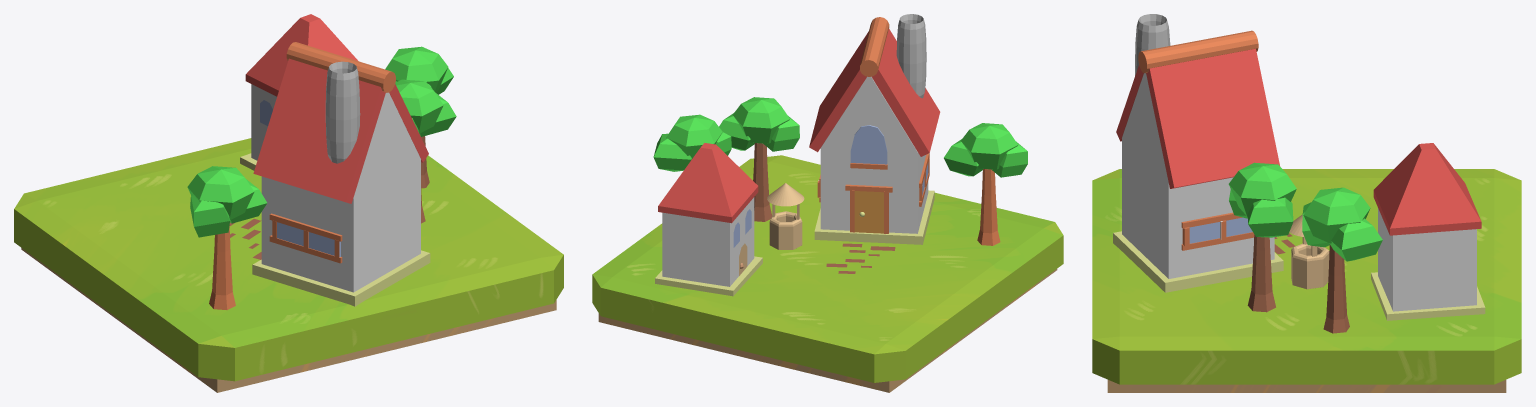
The model's file is schoene_stadt.fbx.
3 views of the same model, side by side, from view 1: azimuth 30°, elevation 25°; view 2: azimuth 150°, elevation 25°; view 3: azimuth 270°, elevation 25° (orthographic). The views are drawn at different scales.
Parts seen in each view (by area): view 1: Cube.001, Cylinder, Cube.003, blaetter, Cube, Torus, dach, Cube.005, blaetter_rechts.001, blaetter_rechts.002, Cylinder.001, stamm (+4 smaller); view 2: Cube.001, Cylinder, haus, dach, Cube.003, blaetter, blaetter_rechts.001, blaetter_rechts.002, Cube, Cube.002, Torus, Cone (+8 smaller); view 3: Cube.001, Cube.002, Cylinder, haus, dach, blaetter_rechts.002, blaetter_rechts.001, Cube, Cylinder.001, Cube.005, Cone, stamm.002 (+7 smaller).
Part boxes in pixels (x1,y1,x2,y2): Cube.001: (14, 138, 563, 381); Cylinder: (261, 92, 420, 292); Cube.003: (253, 58, 385, 203); blaetter: (187, 166, 267, 237); Cube: (21, 248, 556, 392); Torus: (325, 61, 360, 163); dach: (245, 14, 358, 96); Cube.005: (252, 250, 430, 306); blaetter_rechts.001: (395, 79, 456, 136); blaetter_rechts.002: (385, 46, 453, 94); Cylinder.001: (286, 42, 395, 92); stamm: (209, 226, 235, 309); Cube.001: (592, 155, 1063, 382); Cylinder: (820, 76, 928, 233); haus: (662, 197, 754, 286); dach: (658, 143, 758, 223); Cube.003: (872, 29, 940, 156); blaetter: (944, 123, 1027, 177); blaetter_rechts.001: (719, 97, 799, 151); blaetter_rechts.002: (653, 114, 731, 171); Cube: (598, 269, 1057, 392); Cube.002: (809, 31, 868, 152); Torus: (896, 14, 926, 98); Cone: (767, 183, 804, 249); Cube.001: (1092, 169, 1521, 384); Cube.002: (1146, 48, 1280, 188); Cylinder: (1122, 73, 1274, 278); haus: (1378, 208, 1476, 311); dach: (1373, 143, 1481, 235); blaetter_rechts.002: (1302, 187, 1382, 261); blaetter_rechts.001: (1228, 162, 1296, 237); Cube: (1107, 380, 1506, 392); Cylinder.001: (1138, 30, 1258, 73); Cube.005: (1113, 231, 1283, 292); Cone: (1289, 214, 1329, 289); stamm.002: (1323, 244, 1349, 333).
Size of the model in its own units: 108 by 76.87 by 108.
17 materials, 2 textured.
